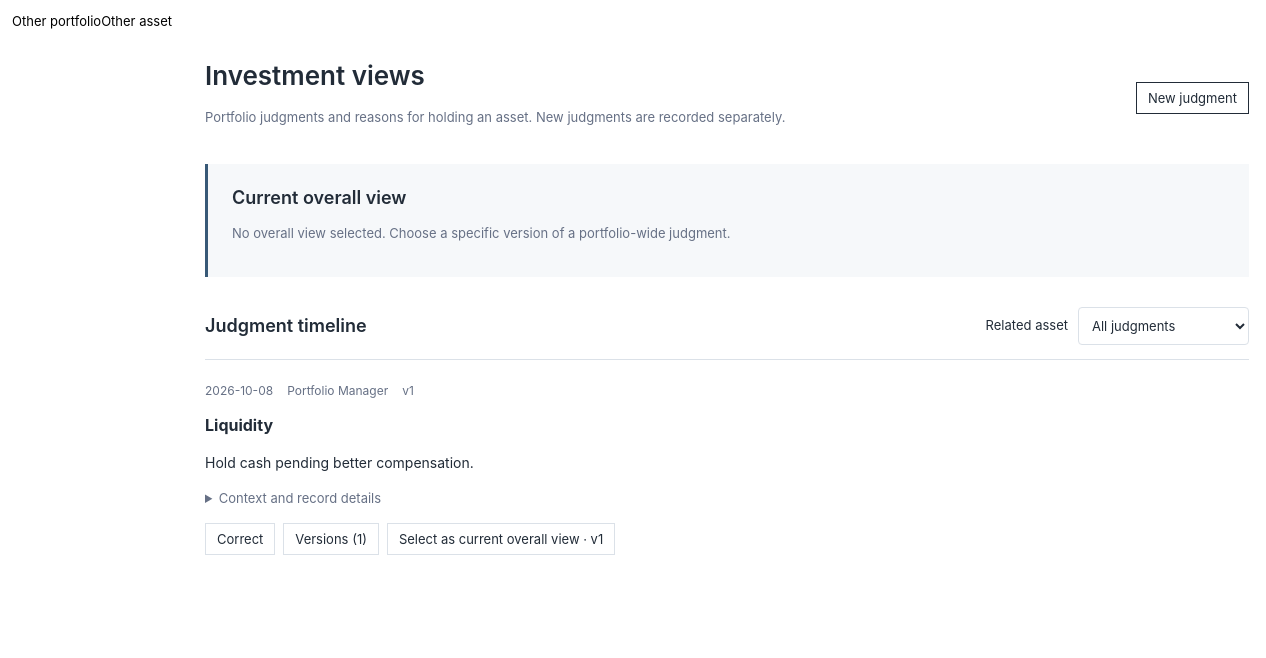
Test case: Portfolio investment judgments › ignores late history and asset-filter responses after scope changes
Click the button "Versions (1)".
click(331, 538)  # box [283, 522, 379, 554]
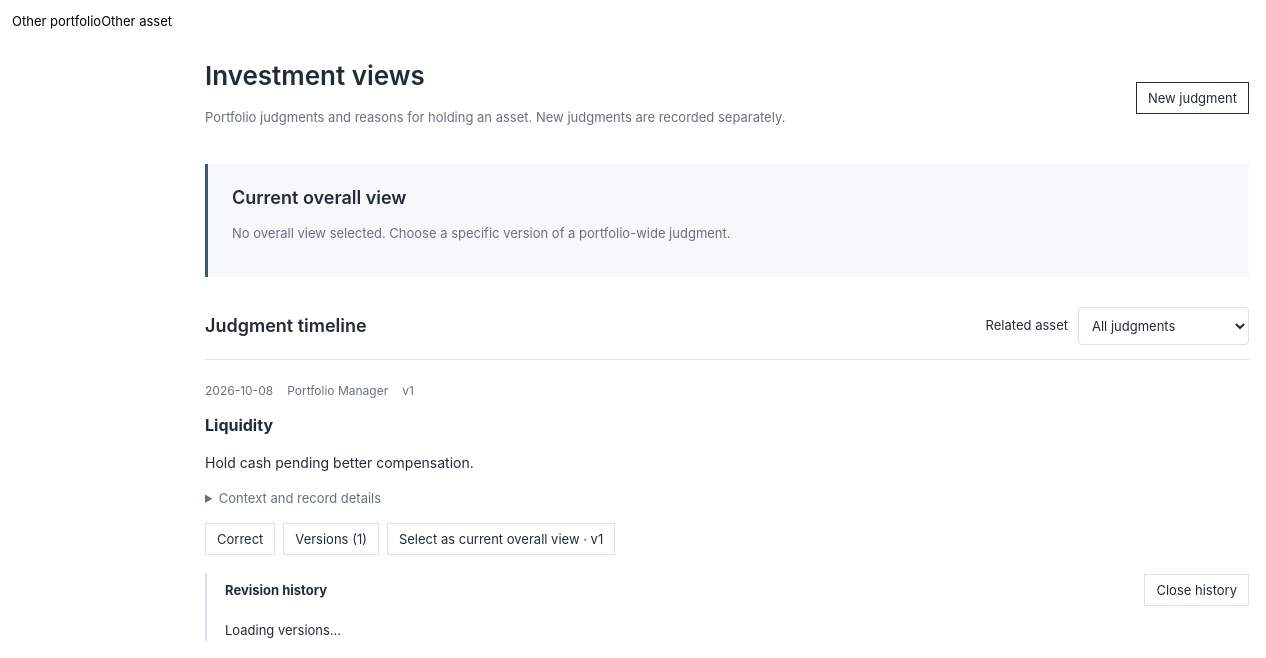
Click the link "Other asset".
click(137, 21)  # box [101, 13, 172, 29]
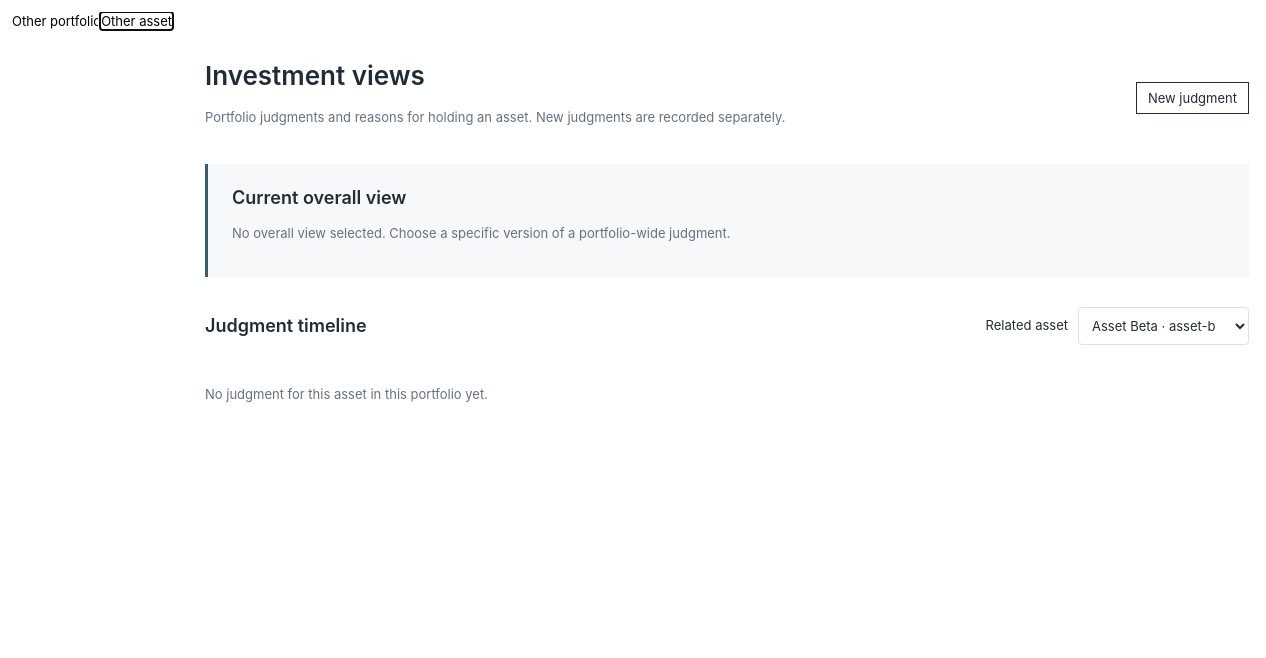
Expected: the text "No judgment for this asset in this portfolio yet." is shown, [205, 386, 488, 402]
Expected: the heading "Revision history" is gone
Expected: the text "Hold cash pending better compensation." is gone
